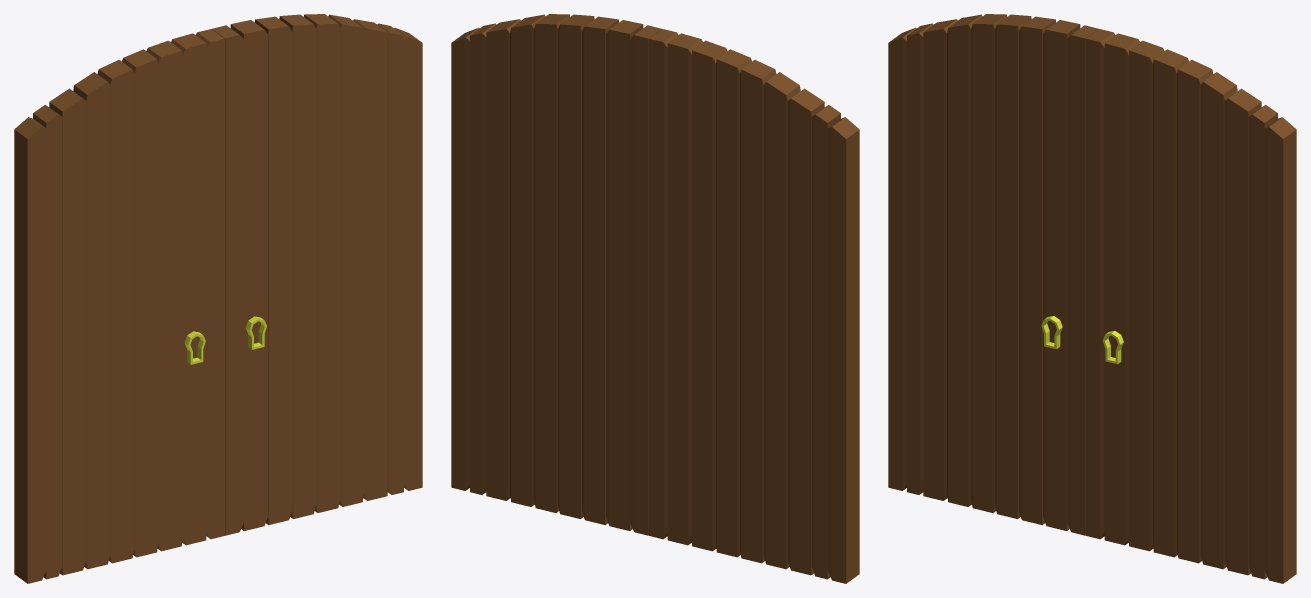
File: gate.fbx
3 renders of one model, left to right at view 1: azimuth 30°, elevation 25°; view 2: azimuth 150°, elevation 25°; view 3: azimuth 330°, elevation 25°, orthographic.
Parts seen in each view (by area): view 1: Gate; view 2: Gate; view 3: Gate.
Boxes of the visible parts, x1,y1,x2,y2 form: Gate: (14,14,422,583); Gate: (451,14,859,583); Gate: (888,14,1296,583).
Bounding box in the file's own units: 188 × 226 × 14.1.
